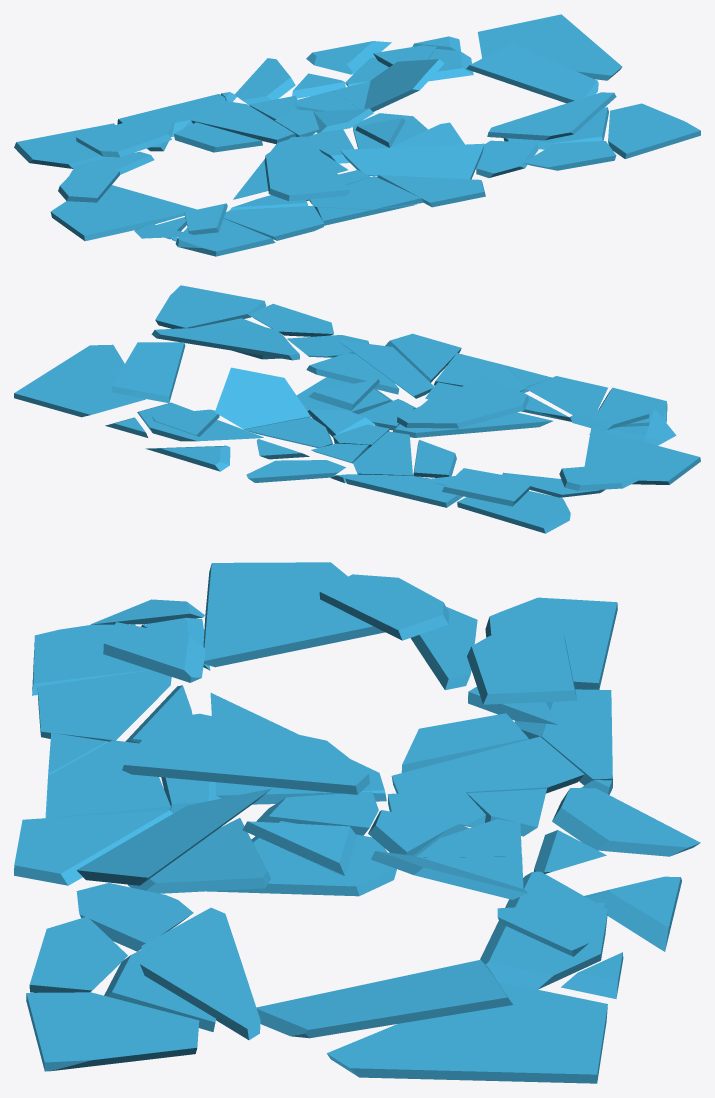
Rendered from Broken glass .fbx.
3 views of the same model, one above another, from view 1: azimuth 30°, elevation 25°; view 2: azimuth 150°, elevation 25°; view 3: azimuth 270°, elevation 25° (orthographic). The views are drawn at different scales.
Parts seen in each view (by area): view 1: Glass_cell_007Shape_4_0, Glass_cell_cellShape_38_0, Glass_cell_005_cell_007Shape_10_0, Glass_cell_005_cell_004_cell_003Shape_72_0, Glass_cell_cell_001_cell_001Shape_48_0, Glass_cell_005_cell_002_cellShape_76_0, Glass_cell_005_cell_004_cell_005Shape_74_0, Glass_cell_001_cell_006_cell_003Shape_60_0, Glass_cell_002_cell_005Shape_20_0, Glass_cell_cell_007Shape_44_0, Glass_cell_005_cell_cell_005Shape_102_0, Glass_cell_cell_001_cell_003Shape_50_0 (+30 smaller); view 2: Glass_cell_007Shape_4_0, Glass_cell_cell_001_cell_001Shape_48_0, Glass_cell_005_cell_cell_005Shape_102_0, Glass_cell_cellShape_38_0, Glass_cell_005_cell_004_cell_003Shape_72_0, Glass_cell_005_cell_002_cellShape_76_0, Glass_cell_005_cell_004_cell_005Shape_74_0, Glass_cell_002_cell_005Shape_20_0, Glass_cell_cell_001_cell_003Shape_50_0, Glass_cell_005_cell_007Shape_10_0, Glass_cell_002_cell_001Shape_14_0, Glass_cell_cell_007Shape_44_0 (+31 smaller); view 3: Glass_cell_007Shape_4_0, Glass_cell_cellShape_38_0, Glass_cell_cell_001_cell_001Shape_48_0, Glass_cell_005_cell_004_cell_003Shape_72_0, Glass_cell_005_cell_002_cellShape_76_0, Glass_cell_005_cell_004_cell_005Shape_74_0, Glass_cell_cell_007Shape_44_0, Glass_cell_cell_001_cell_003Shape_50_0, Glass_cell_005_cell_005Shape_8_0, Glass_cell_001_cell_006_cell_003Shape_60_0, Glass_cell_006_cell_007Shape_114_0, Glass_cell_005_cell_007Shape_10_0 (+33 smaller).
Part boxes in pixels (box(x1,y1,x2,y2)): Glass_cell_007Shape_4_0: box(477, 14, 622, 80); Glass_cell_cellShape_38_0: box(50, 185, 196, 241); Glass_cell_005_cell_007Shape_10_0: box(340, 143, 484, 179); Glass_cell_005_cell_004_cell_003Shape_72_0: box(466, 43, 598, 103); Glass_cell_cell_001_cell_001Shape_48_0: box(264, 136, 349, 201); Glass_cell_005_cell_002_cellShape_76_0: box(608, 103, 700, 158); Glass_cell_005_cell_004_cell_005Shape_74_0: box(487, 92, 616, 140); Glass_cell_001_cell_006_cell_003Shape_60_0: box(223, 205, 324, 240); Glass_cell_002_cell_005Shape_20_0: box(14, 123, 115, 168); Glass_cell_cell_007Shape_44_0: box(191, 100, 295, 143); Glass_cell_005_cell_cell_005Shape_102_0: box(364, 59, 444, 111); Glass_cell_cell_001_cell_003Shape_50_0: box(76, 117, 171, 157); Glass_cell_007Shape_4_0: box(14, 344, 145, 417); Glass_cell_cell_001_cell_001Shape_48_0: box(397, 376, 528, 428); Glass_cell_005_cell_cell_005Shape_102_0: box(215, 367, 310, 429); Glass_cell_cellShape_38_0: box(584, 428, 700, 484); Glass_cell_005_cell_004_cell_003Shape_72_0: box(112, 342, 185, 403); Glass_cell_005_cell_002_cellShape_76_0: box(155, 285, 266, 328); Glass_cell_005_cell_004_cell_005Shape_74_0: box(151, 325, 299, 360); Glass_cell_002_cell_005Shape_20_0: box(457, 491, 570, 533); Glass_cell_cell_001_cell_003Shape_50_0: box(442, 468, 530, 506); Glass_cell_005_cell_007Shape_10_0: box(338, 340, 433, 398); Glass_cell_002_cell_001Shape_14_0: box(345, 474, 463, 507); Glass_cell_cell_007Shape_44_0: box(353, 431, 412, 475); Glass_cell_007Shape_4_0: box(327, 982, 607, 1083); Glass_cell_cellShape_38_0: box(203, 562, 384, 667); Glass_cell_cell_001_cell_001Shape_48_0: box(122, 713, 369, 794); Glass_cell_005_cell_004_cell_003Shape_72_0: box(256, 959, 512, 1038); Glass_cell_005_cell_002_cellShape_76_0: box(26, 992, 199, 1071); Glass_cell_005_cell_004_cell_005Shape_74_0: box(140, 907, 260, 1040); Glass_cell_cell_007Shape_44_0: box(391, 736, 584, 793); Glass_cell_cell_001_cell_003Shape_50_0: box(467, 632, 577, 704); Glass_cell_005_cell_005Shape_8_0: box(14, 810, 173, 885); Glass_cell_001_cell_006_cell_003Shape_60_0: box(37, 670, 171, 741); Glass_cell_006_cell_007Shape_114_0: box(480, 871, 607, 989); Glass_cell_005_cell_007Shape_10_0: box(76, 788, 271, 885).
Bounding box in the file's own units: 1.53 × 0.096 × 0.8644.
